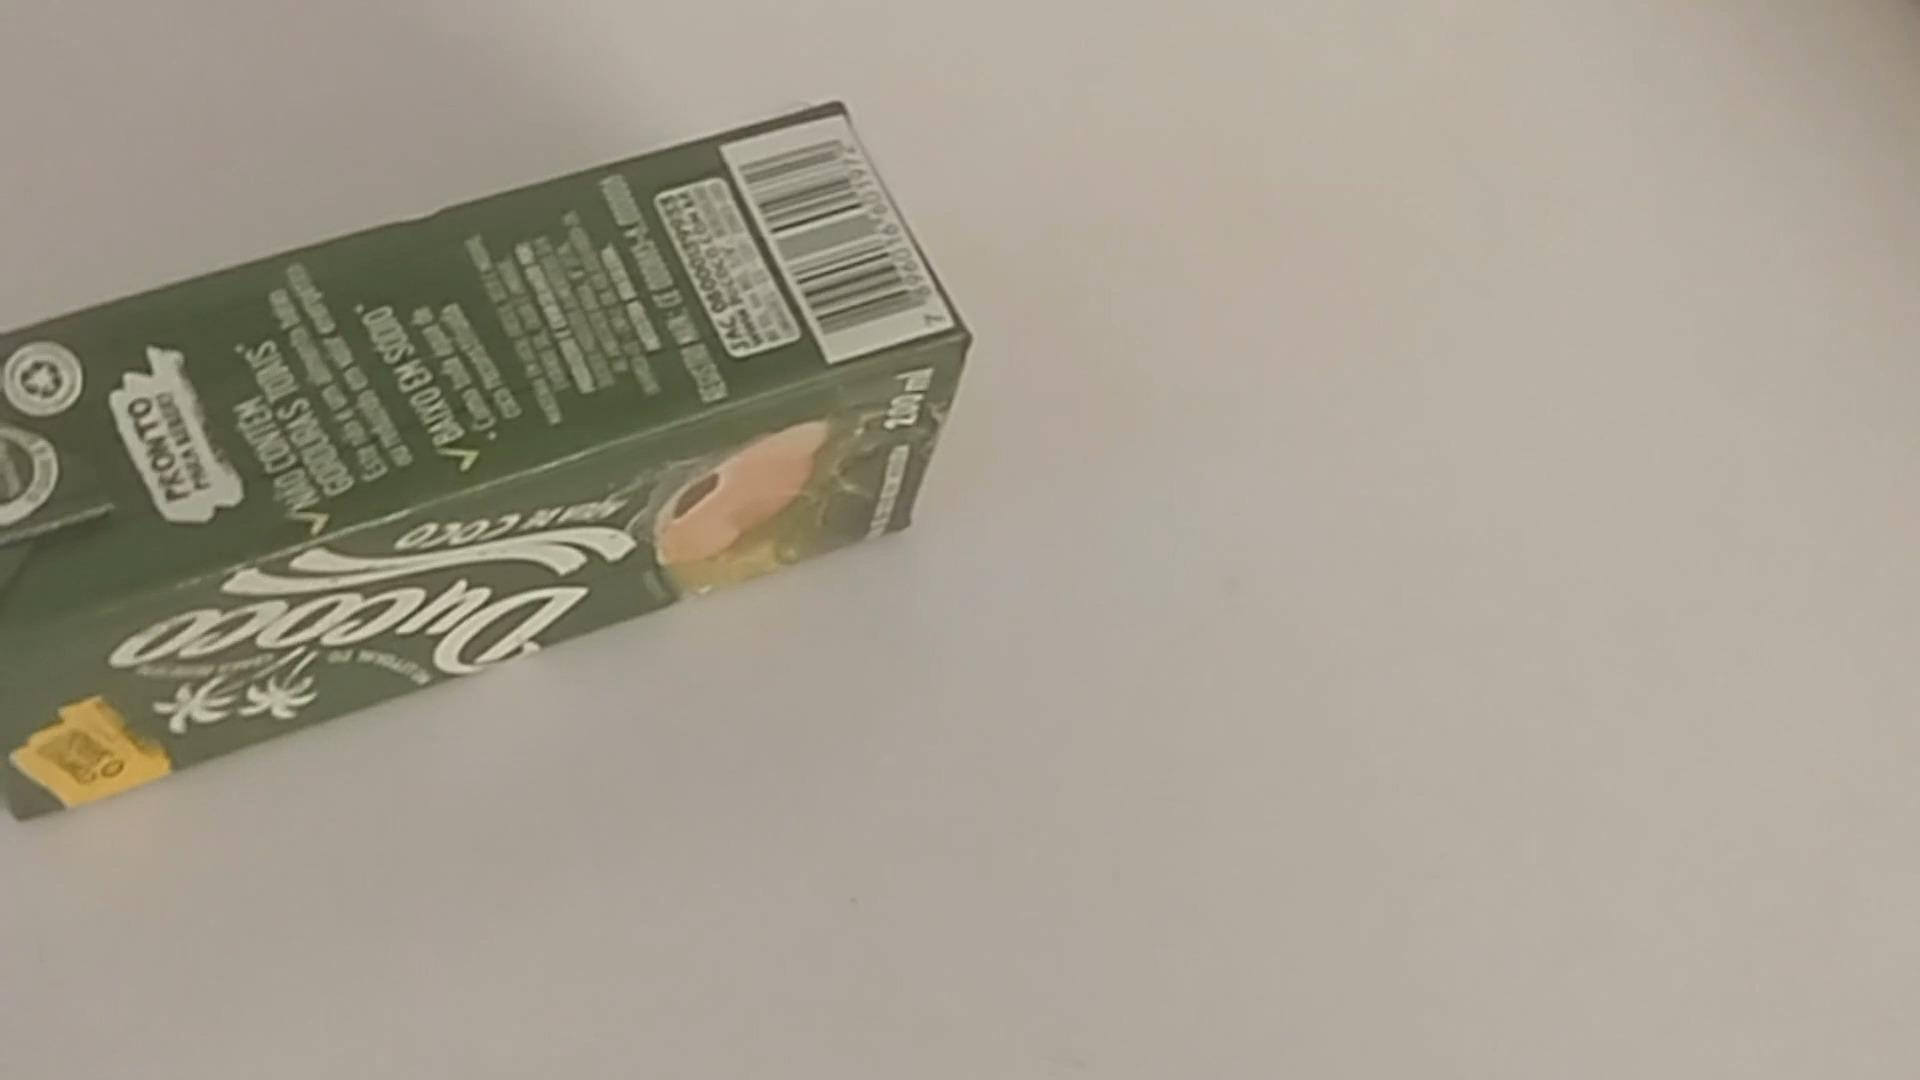coco: (12, 104, 973, 818)
